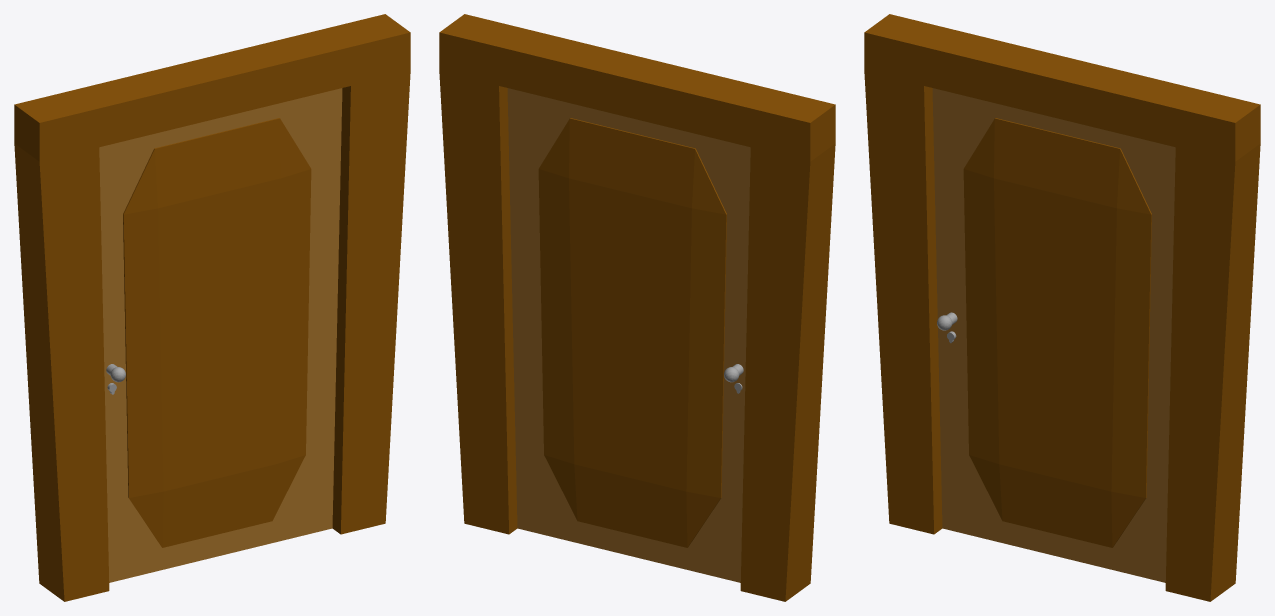
Rendered from Door.fbx.
3 renders of one model, left to right at view 1: azimuth 30°, elevation 25°; view 2: azimuth 150°, elevation 25°; view 3: azimuth 330°, elevation 25°, orthographic.
Parts seen in each view (by area): view 1: Door, Doorway; view 2: Door, Doorway; view 3: Door, Doorway.
Part boxes in pixels (bbox=[...]): Door: bbox=[99, 88, 342, 582]; Doorway: bbox=[14, 14, 410, 601]; Door: bbox=[507, 88, 750, 582]; Doorway: bbox=[439, 14, 835, 601]; Door: bbox=[932, 88, 1175, 582]; Doorway: bbox=[864, 14, 1260, 601].
Size of the model in its own units: 305 by 382 by 44.73.
